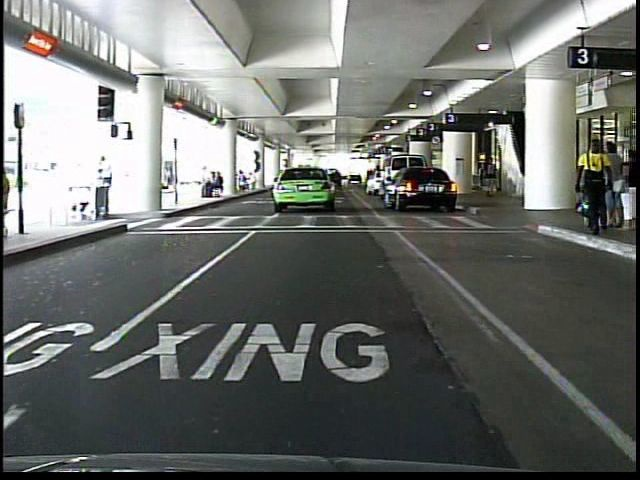person: (567, 137, 611, 240), (92, 155, 125, 223), (598, 144, 623, 233), (481, 156, 501, 204)
